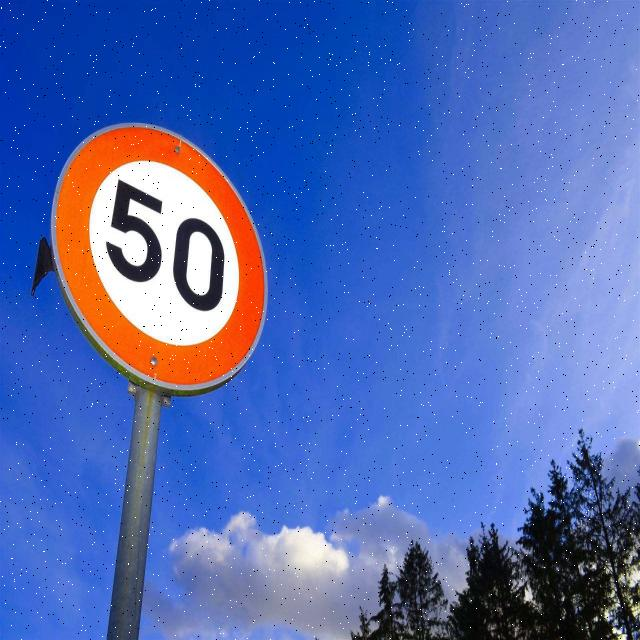speed_limit_50: (54, 128, 268, 396)
